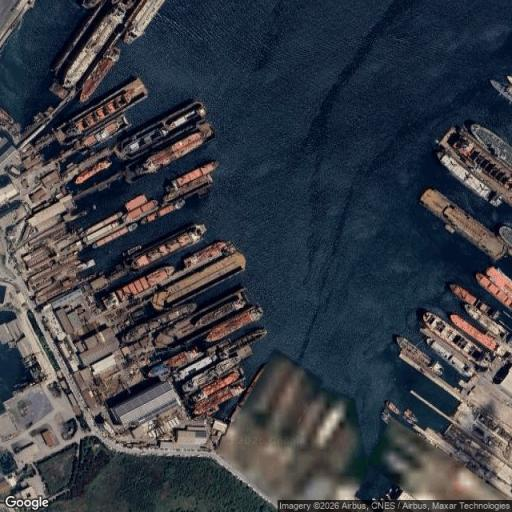ship: (420, 189, 507, 259), (55, 78, 147, 142), (62, 2, 127, 88), (152, 252, 245, 311), (440, 127, 511, 204), (115, 102, 206, 159), (138, 123, 213, 174), (436, 150, 502, 206), (127, 225, 206, 270), (423, 312, 483, 363), (122, 303, 196, 343), (164, 161, 218, 203), (182, 356, 240, 394), (113, 266, 174, 302), (80, 47, 119, 103), (206, 307, 263, 342), (450, 314, 499, 352), (396, 336, 443, 375), (425, 338, 473, 376), (76, 115, 130, 148), (469, 124, 511, 166), (124, 0, 164, 43), (450, 284, 499, 319), (465, 304, 508, 340), (148, 348, 203, 376), (193, 385, 243, 415), (194, 298, 245, 327), (194, 370, 240, 402), (163, 174, 213, 203), (476, 268, 511, 308), (184, 242, 235, 268), (476, 273, 511, 309), (92, 223, 137, 247), (174, 356, 216, 381), (141, 200, 184, 223), (124, 195, 158, 223), (75, 159, 111, 184), (84, 212, 121, 235), (231, 328, 267, 346), (450, 284, 477, 304), (490, 80, 511, 101), (122, 243, 143, 257), (500, 226, 511, 247), (403, 409, 417, 425), (0, 108, 13, 125), (385, 400, 399, 415), (381, 408, 390, 423)
